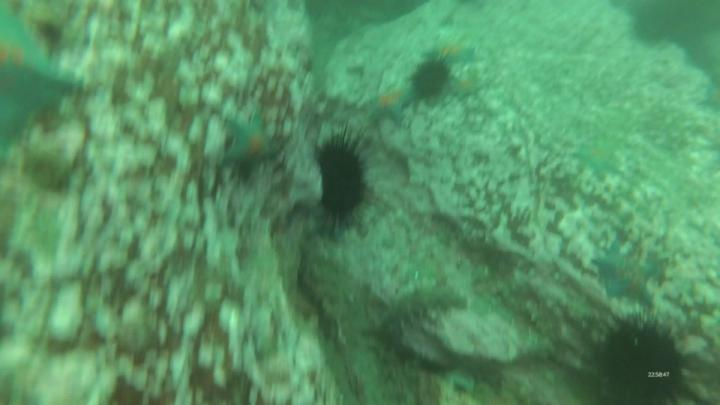echinus: (604, 319, 681, 405), (316, 142, 366, 216), (413, 63, 446, 96)
holothurian: (381, 287, 466, 322)
starfish: (593, 244, 656, 307), (225, 118, 276, 168), (369, 89, 410, 124), (576, 143, 615, 177), (427, 42, 476, 64), (450, 72, 481, 98)
